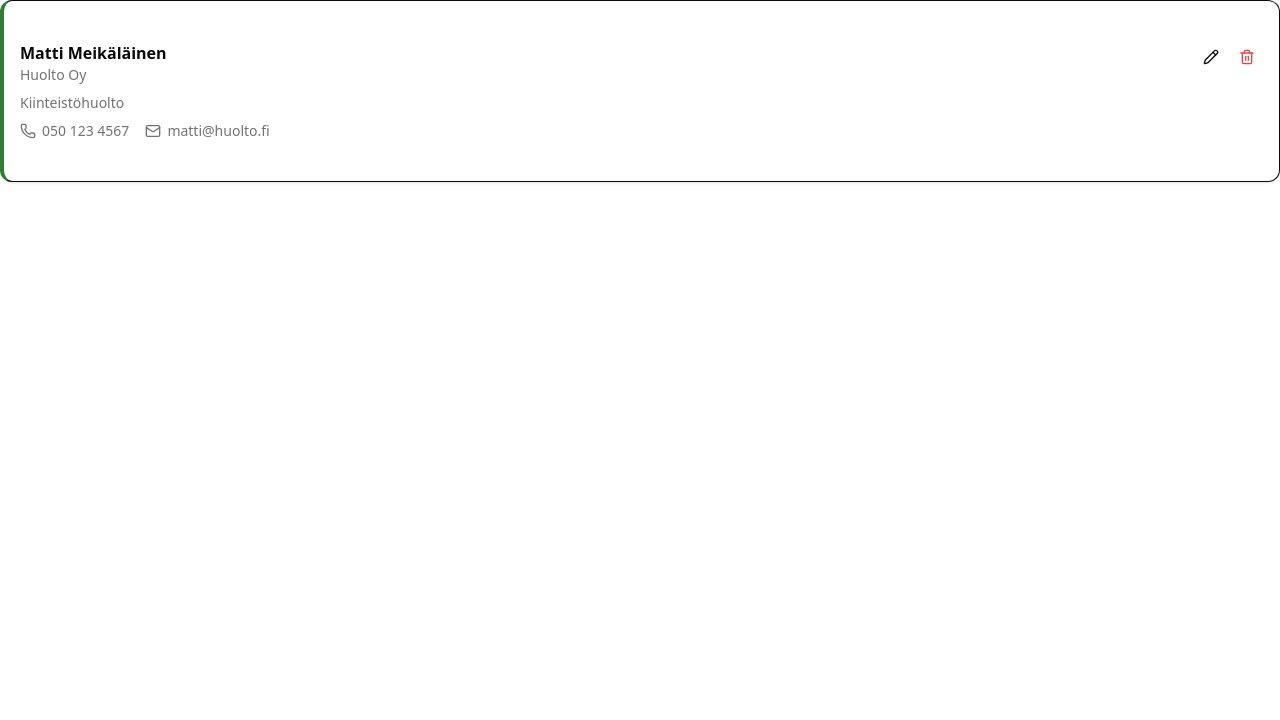
Scenario: ContactCard › opens delete confirmation dialog when delete button clicked
The image size is (1280, 720).
Click the button named "Poista yhteystieto": click(1247, 57) [1231,41,1263,73]
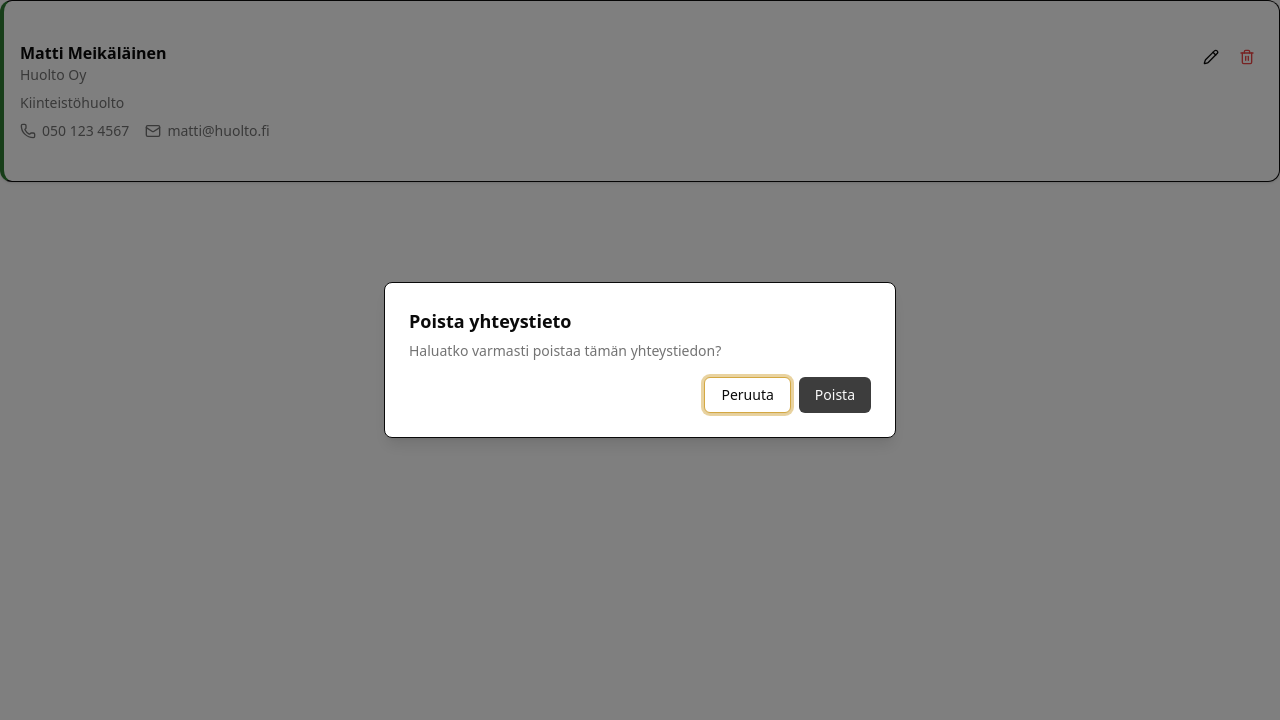
Expected: the text "Haluatko varmasti poistaa tämän yhteystiedon?" is shown, [409,341,721,361]
